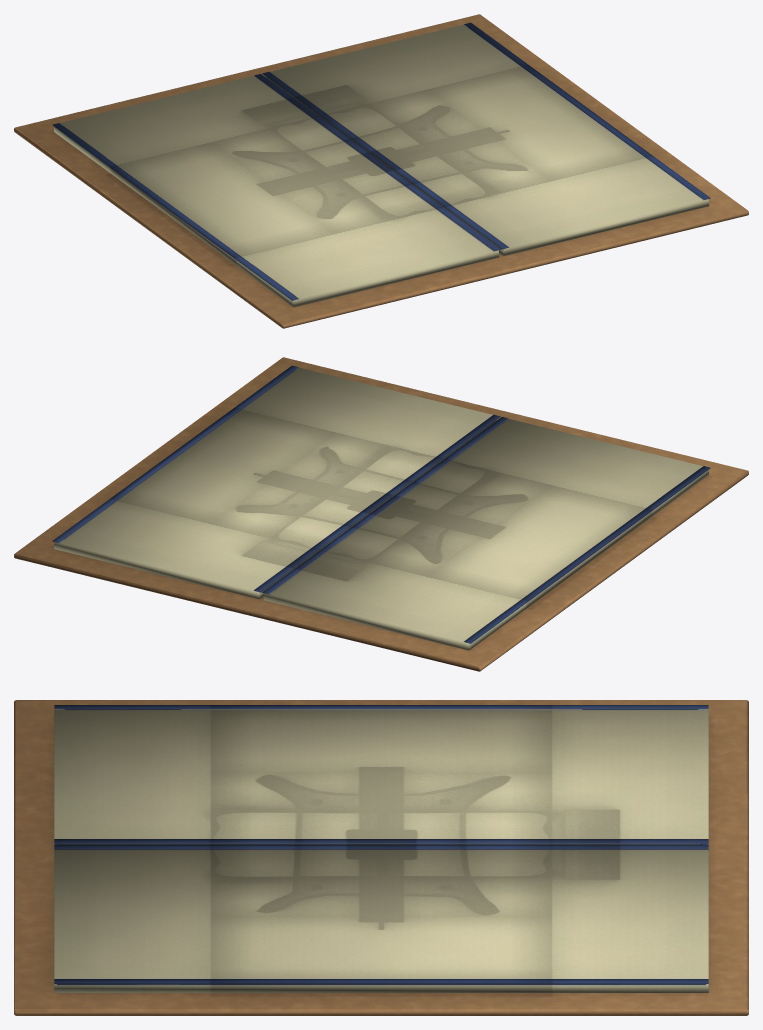
File: floor_tatami.glb
3 views of the same model, one above another, from view 1: azimuth 30°, elevation 25°; view 2: azimuth 150°, elevation 25°; view 3: azimuth 270°, elevation 25° (orthographic). The views are drawn at different scales.
Visible parts, largest first — view 1: prop_floor_tatami_felt, prop_floor_tatami_wood; view 2: prop_floor_tatami_felt, prop_floor_tatami_wood; view 3: prop_floor_tatami_felt, prop_floor_tatami_wood.
Part boxes in pixels (x1,y1,x2,y2): prop_floor_tatami_felt: (52,22,710,307); prop_floor_tatami_wood: (14,14,748,328); prop_floor_tatami_felt: (52,365,710,650); prop_floor_tatami_wood: (14,357,748,671); prop_floor_tatami_felt: (54,705,708,992); prop_floor_tatami_wood: (14,700,748,1015).
Size of the model in its own units: 4 by 0.103 by 4.
2 materials, 2 textured.
